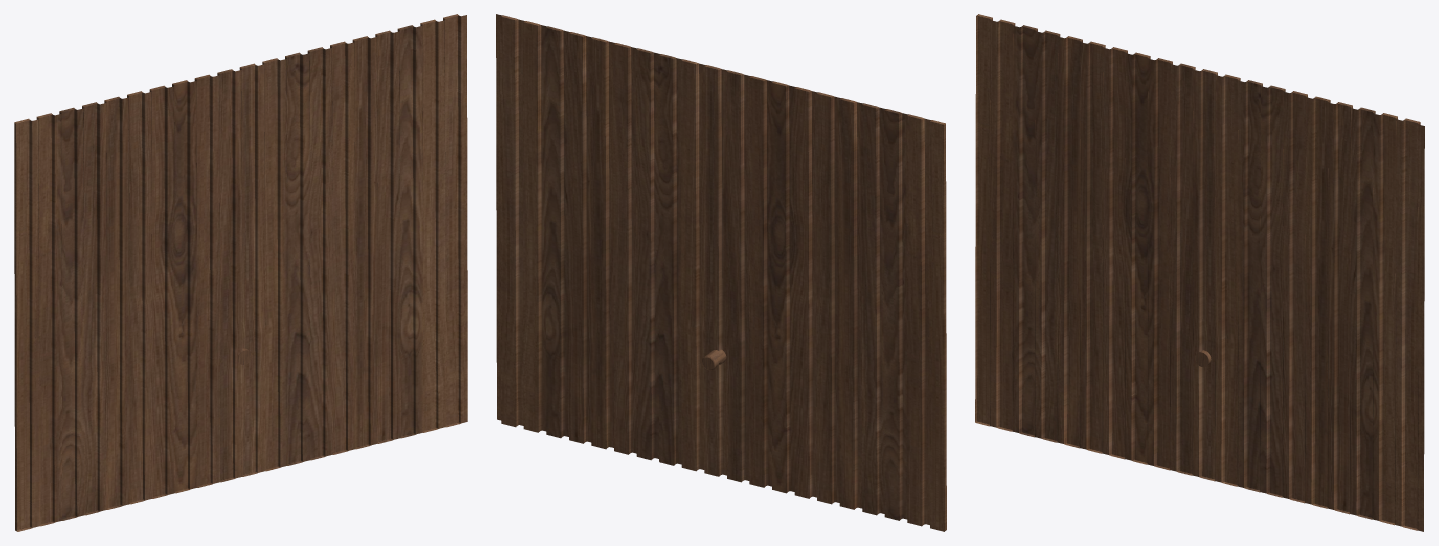
Rendered from pCochera.obj.
The picture shows the model from 3 angles, left to right: view 1: azimuth 30°, elevation 25°; view 2: azimuth 150°, elevation 25°; view 3: azimuth 330°, elevation 25°; orthographic projection.
Parts seen in each view (by area): view 1: Plane; view 2: Plane; view 3: Plane.
Boxes of the visible parts, <box> form: Plane: <box>14,14,467,531</box>; Plane: <box>496,14,946,531</box>; Plane: <box>975,14,1424,531</box>.
Size of the model in its own units: 1266768 by 1096175 by 54676.
1 material, 1 textured.
